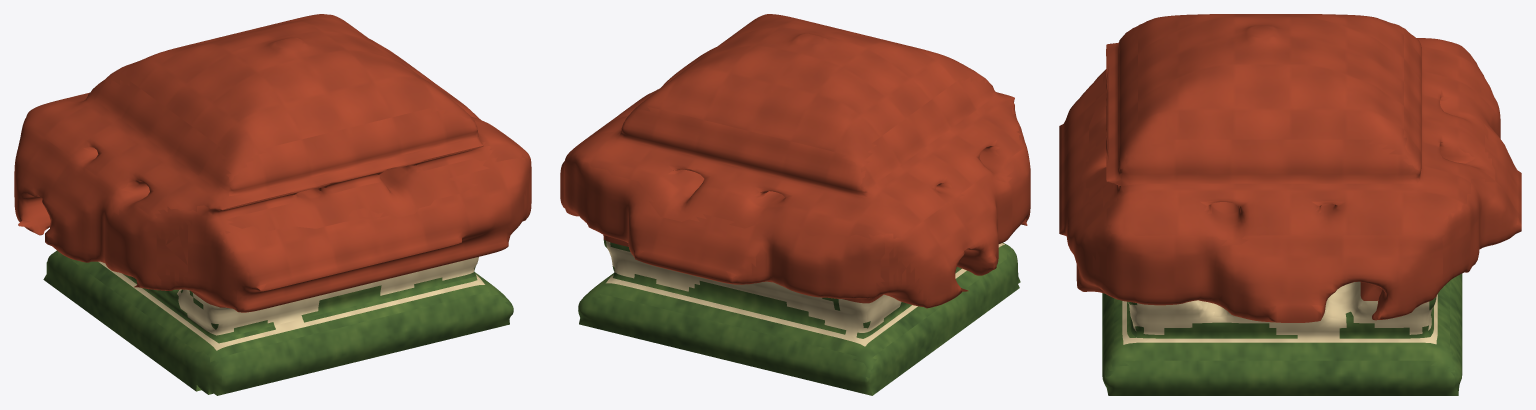
Rendered from flora_mushroom_cluster.glb.
The picture shows the model from 3 angles, left to right: view 1: azimuth 30°, elevation 25°; view 2: azimuth 150°, elevation 25°; view 3: azimuth 270°, elevation 25°; orthographic projection. The views are drawn at different scales.
Visible parts, largest first — view 1: wilds_ruins_flora_mushroom_cluster; view 2: wilds_ruins_flora_mushroom_cluster; view 3: wilds_ruins_flora_mushroom_cluster.
Part boxes in pixels (x1,y1,x2,y2): wilds_ruins_flora_mushroom_cluster: (14,14,531,395); wilds_ruins_flora_mushroom_cluster: (560,14,1030,395); wilds_ruins_flora_mushroom_cluster: (1059,14,1521,395).
Size of the model in its own units: 0.5938 by 0.3516 by 0.5156.
3 materials, 3 textured.
